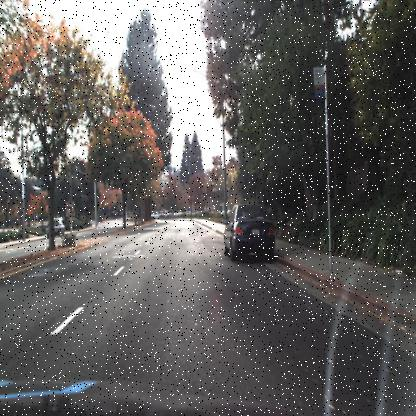car: (221, 200, 279, 264), (45, 216, 65, 236)
